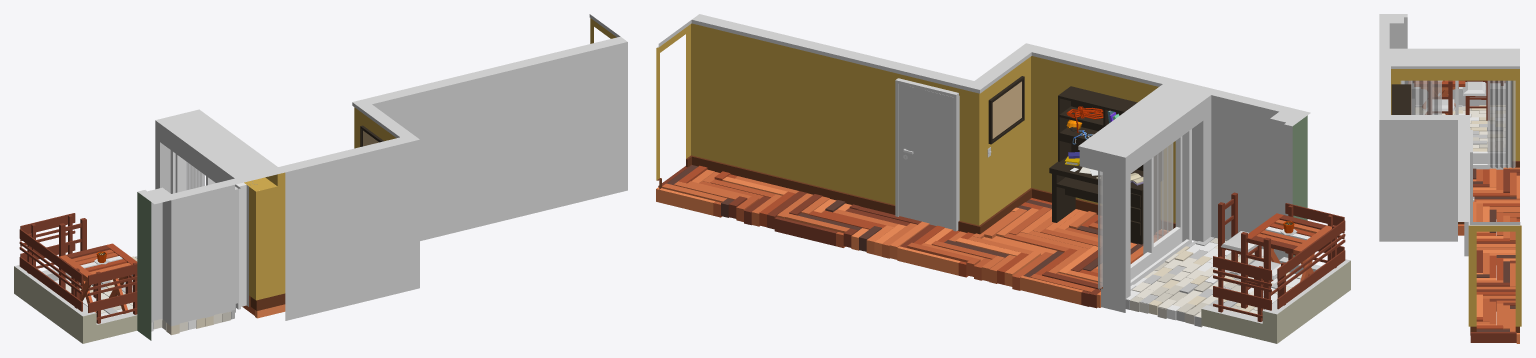
The model's file is corridor.glb.
3 views of the same model, side by side, from view 1: azimuth 30°, elevation 25°; view 2: azimuth 150°, elevation 25°; view 3: azimuth 270°, elevation 25° (orthographic). The views are drawn at different scales.
Parts seen in each view (by area): view 1: Pasillo Norte.001, Balcon.002, Pasillo Norte, Balcon Oeste.002, Balcon, Balcon Oeste.001, Baranda Balcon.001, Baranda Balcon.002, Cortador pISO, Tabla Mesa, Marco Balcon, Pasillo Este (+3 smaller); view 2: Pasillo Norte, Piso.001, Balcon.002, Balcon Oeste.002, Puerta, Cortador pISO, Escritorio pasillo, Balcon Oeste.001, Balcon, Pasillo Norte.001, Pasillo Este Puertas, Baranda Balcon.001 (+10 smaller); view 3: Pasillo Norte.001, Piso.001, Balcon Oeste.002, Pasillo Este, cortina.001, Pasillo Norte, Cortador pISO, cortina.002, Balcon, Pasillo Este Puertas, Silla pedorra, Silla.001 (+5 smaller).
Part boxes in pixels (x1,y1,x2,y2): Pasillo Norte.001: (278,36,627,320); Balcon.002: (137,185,234,340); Pasillo Norte: (256,14,620,310); Balcon Oeste.002: (137,109,284,204); Balcon: (14,265,137,343); Balcon Oeste.001: (155,120,238,303); Baranda Balcon.001: (19,229,82,311); Baranda Balcon.002: (88,262,137,323); Cortador pISO: (54,256,235,335); Tabla Mesa: (59,243,137,282); Marco Balcon: (170,150,248,309); Pasillo Este: (244,174,277,310); Pasillo Norte: (656,20,1175,234); Piso.001: (656,164,1169,308); Balcon.002: (1211,95,1307,260); Balcon Oeste.002: (1078,78,1310,312); Puerta: (898,84,953,228); Cortador pISO: (1125,236,1302,327); Escritorio pasillo: (1049,86,1161,244); Balcon Oeste.001: (1125,95,1211,298); Balcon: (1202,257,1350,343); Pasillo Norte.001: (692,14,1170,230); Pasillo Este Puertas: (1130,136,1182,279); Baranda Balcon.001: (1277,220,1345,309); Pasillo Norte.001: (1379,66,1469,241); Piso.001: (1458,167,1519,343); Balcon Oeste.002: (1379,14,1519,66); Pasillo Este: (1391,66,1519,167); cortina.001: (1487,80,1515,168); Pasillo Norte: (1458,222,1521,335); Cortador pISO: (1415,105,1505,151); cortina.002: (1400,80,1441,114); Balcon: (1412,84,1505,114); Pasillo Este Puertas: (1405,80,1508,163); Silla pedorra: (1462,80,1489,120); Silla.001: (1426,80,1455,114).
Size of what is drawn, in the model's own units: 10.12 by 2.49 by 2.64.
Materials: 48 (1 with a texture image).
